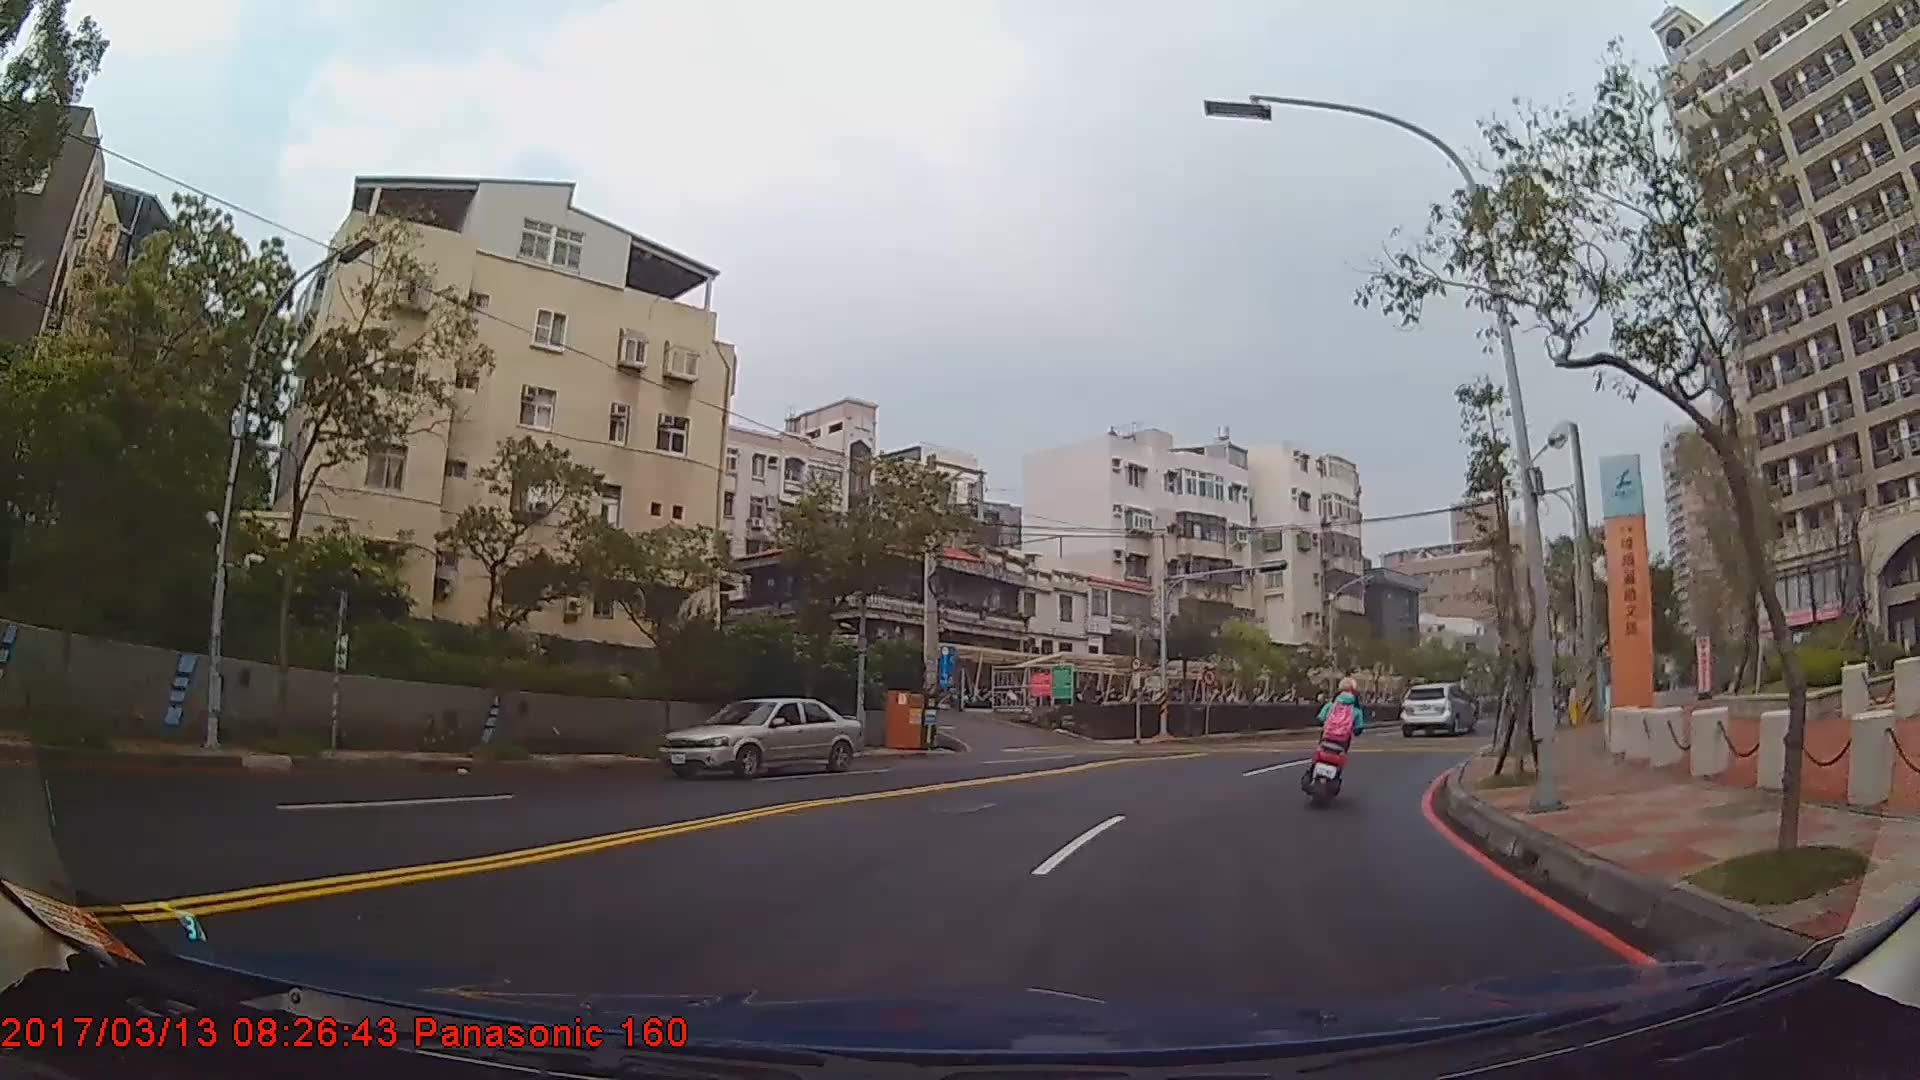rider: (1310, 676, 1369, 801)
vehicle: (656, 697, 862, 780), (1398, 681, 1473, 737)
